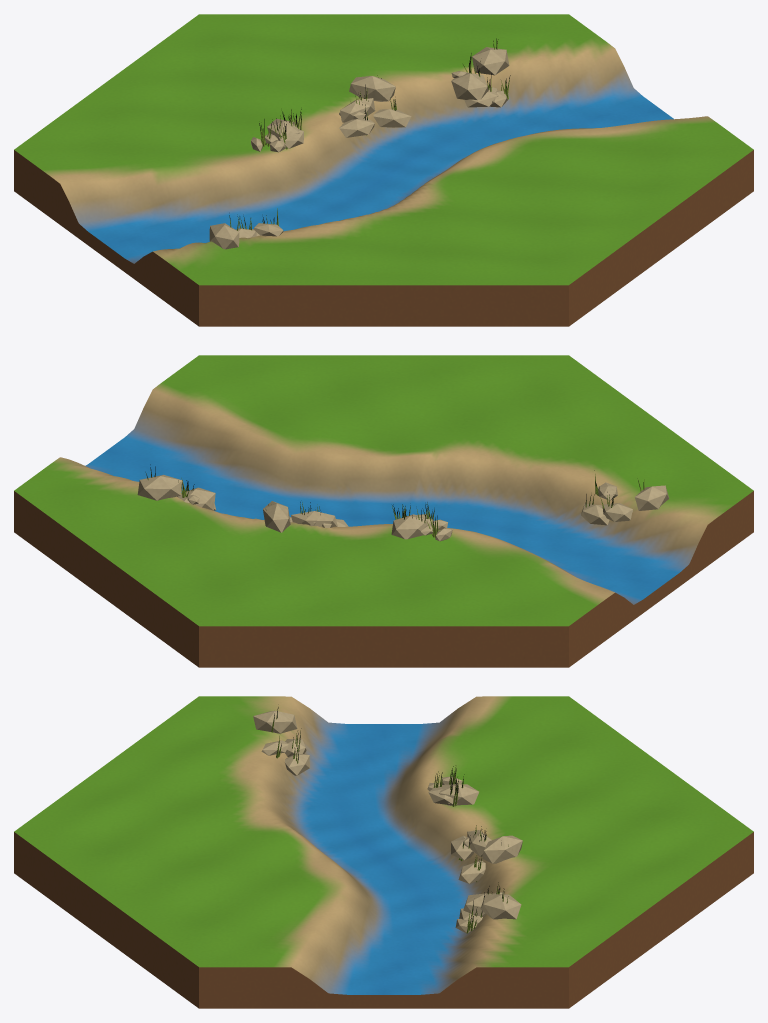
Rendered from SM_RioNatural_A_LOD0.fbx.
3 views of the same model, one above another, from view 1: azimuth 30°, elevation 25°; view 2: azimuth 150°, elevation 25°; view 3: azimuth 270°, elevation 25° (orthographic).
Visible parts, largest first — view 1: SM_RioNatural_A_LOD0; view 2: SM_RioNatural_A_LOD0; view 3: SM_RioNatural_A_LOD0.
Part boxes in pixels (<box>): SM_RioNatural_A_LOD0: <box>14,14,753,326</box>; SM_RioNatural_A_LOD0: <box>14,355,753,667</box>; SM_RioNatural_A_LOD0: <box>14,696,753,1008</box>.
Bounding box in the file's own units: 1.68 × 0.2038 × 1.94.
Materials: 1 (1 with a texture image).
